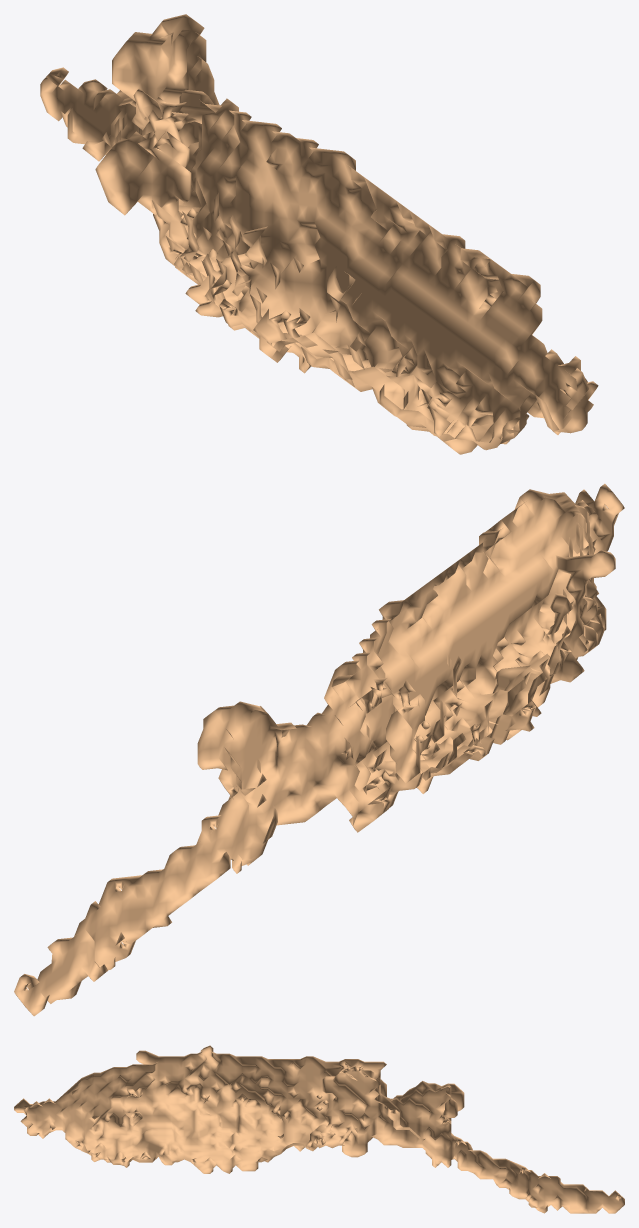
Rendered from osteocyte_146.glb.
3 views of the same model, one above another, from view 1: azimuth 30°, elevation 25°; view 2: azimuth 150°, elevation 25°; view 3: azimuth 270°, elevation 25° (orthographic). The views are drawn at different scales.
Visible parts, largest first — view 1: osteocyte_146; view 2: osteocyte_146; view 3: osteocyte_146.
Boxes of the visible parts, x1,y1,x2,y2 form: osteocyte_146: (40,14,598,454); osteocyte_146: (14,483,624,1016); osteocyte_146: (14,1045,624,1213).
Size of the model in its own units: 10.11 by 9.63 by 45.74.
